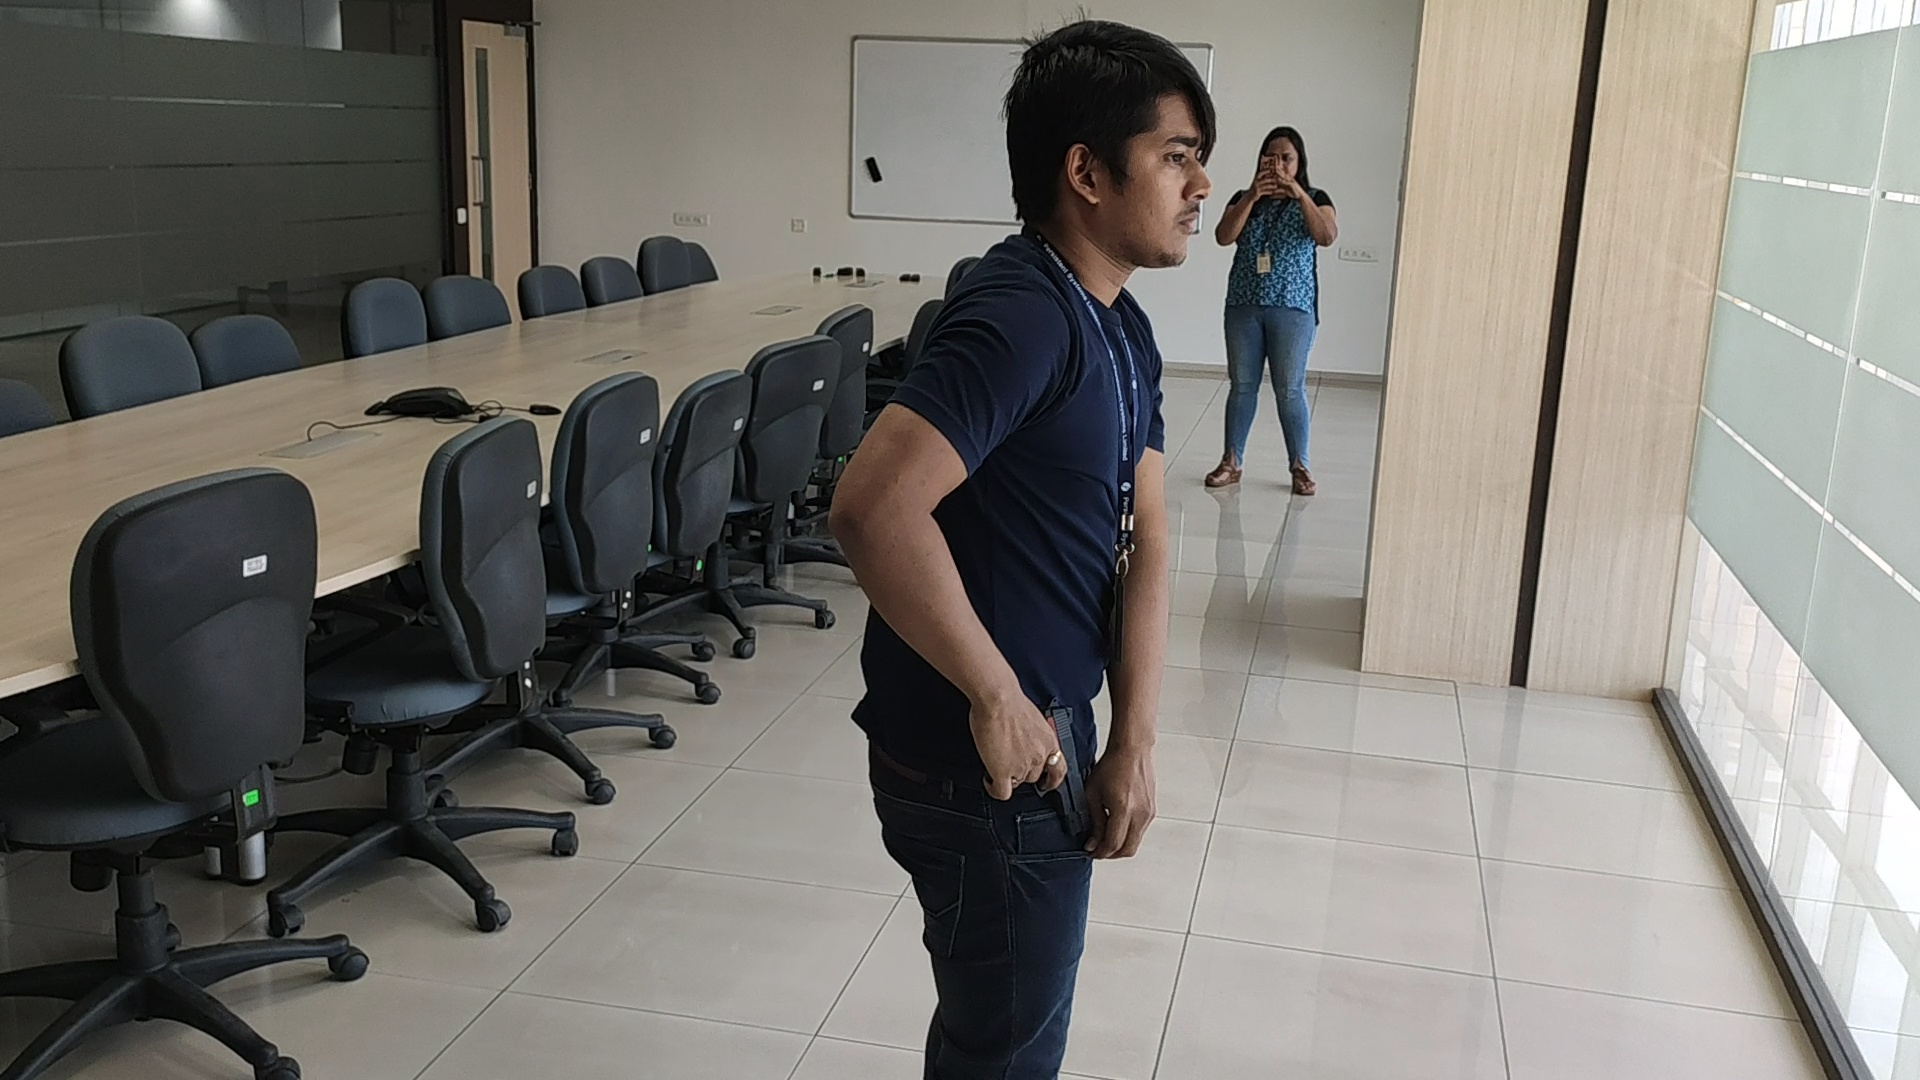gun: (1050, 705, 1089, 833)
